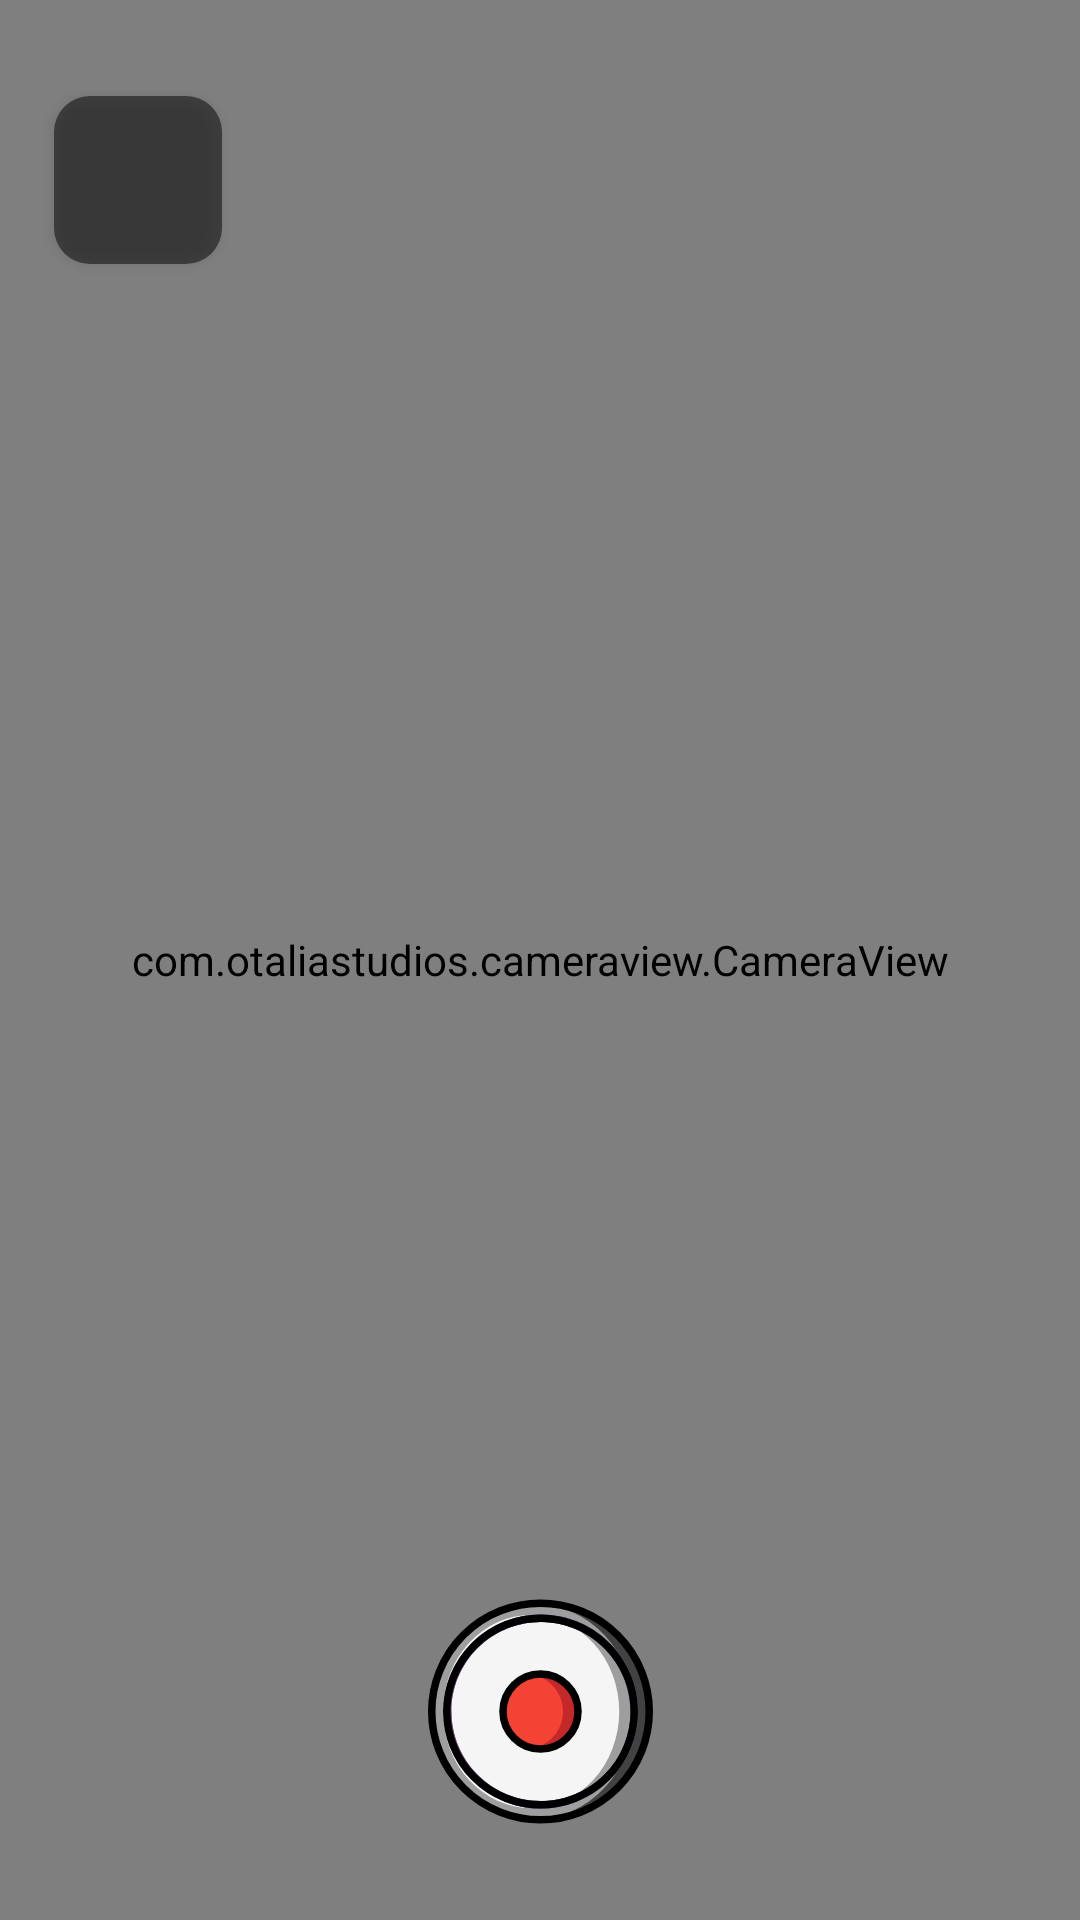

Screen size 1080×1920. Icon name, then its box in pixels as (left=x1, top=y1, right=x2, bottom=y2):
record start: (left=428, top=1599, right=653, bottom=1824)
